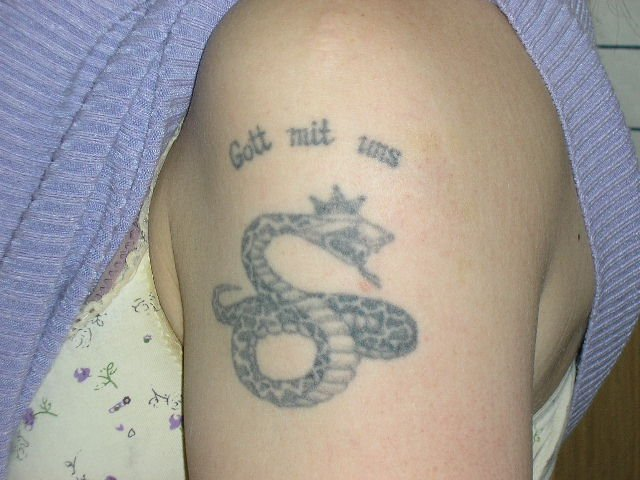tatu3_bukva: (215, 105, 424, 178)
tatu7_zmeya: (191, 195, 452, 412)
